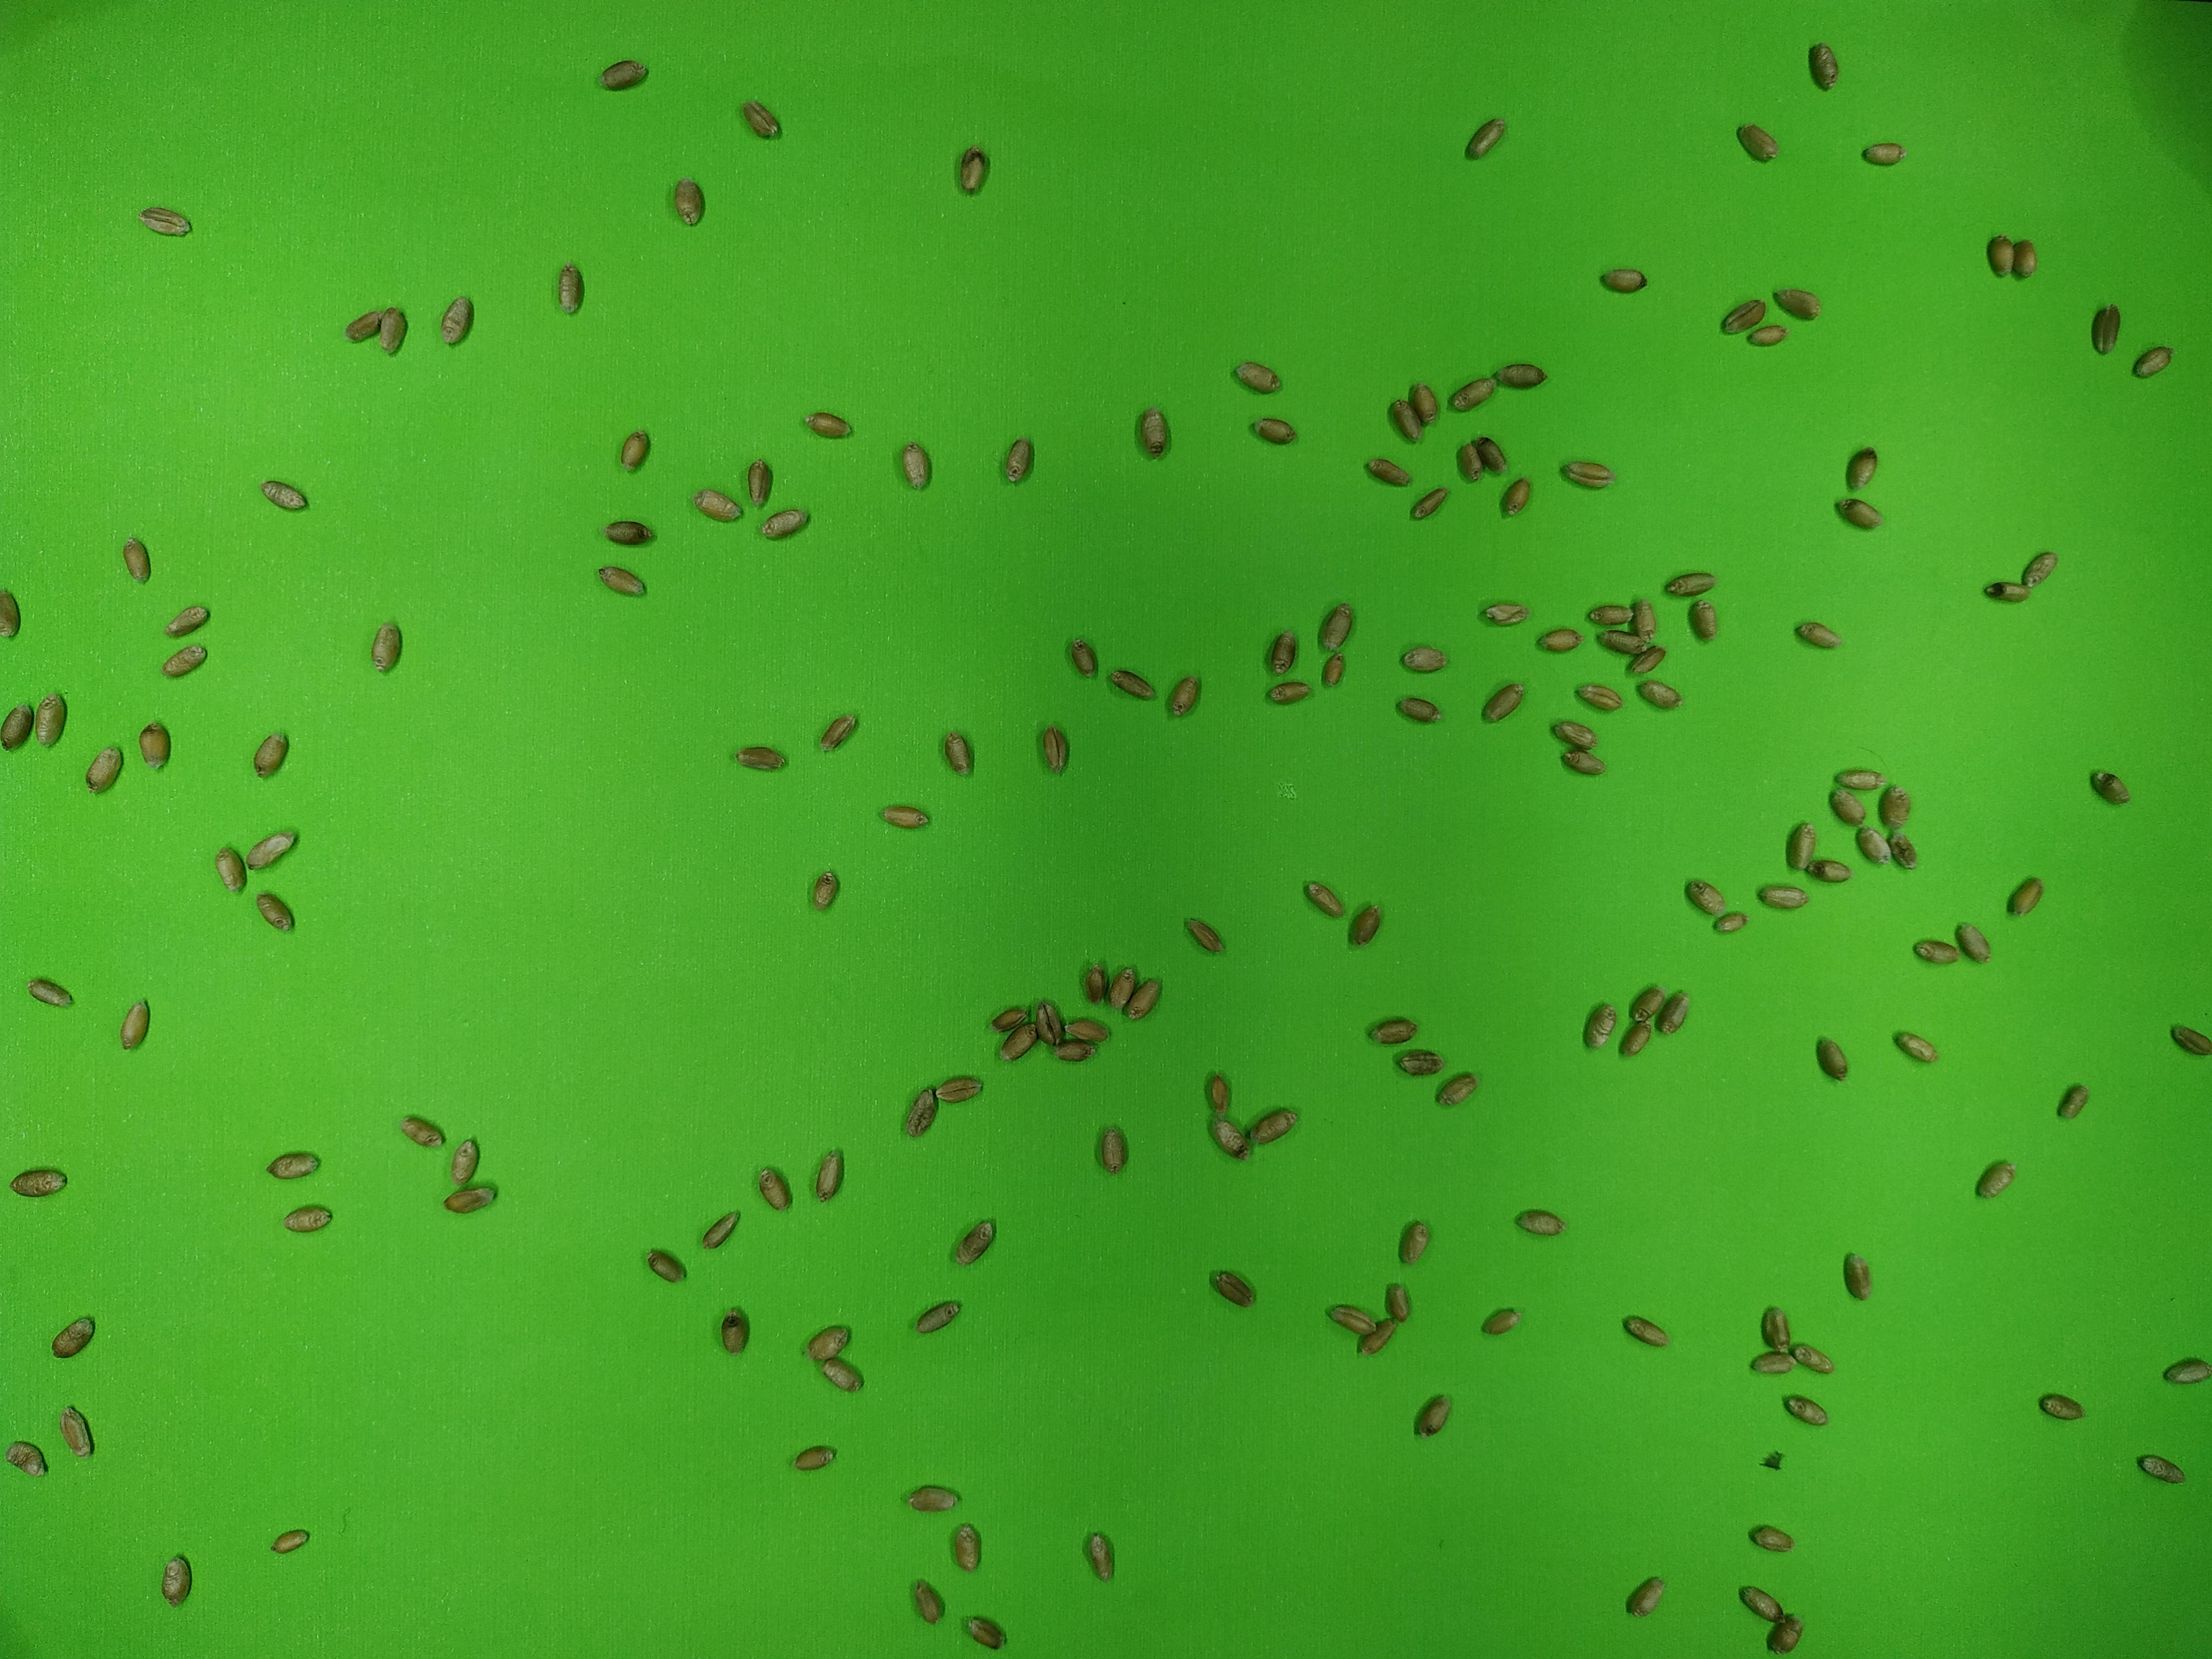bueno: (244, 826, 305, 875), (2085, 762, 2135, 814), (47, 1310, 99, 1358), (33, 685, 68, 753), (1318, 1300, 1378, 1338), (85, 744, 125, 800), (1782, 823, 1822, 875), (437, 295, 475, 349), (57, 1403, 94, 1459), (1393, 1218, 1433, 1269), (1136, 404, 1170, 462), (956, 143, 993, 197), (805, 1323, 852, 1364), (1578, 1004, 1620, 1051), (1388, 394, 1426, 444), (1125, 974, 1163, 1025), (1834, 493, 1885, 532), (1514, 1204, 1566, 1241), (897, 441, 934, 493), (1209, 1270, 1261, 1307), (1096, 1121, 1129, 1178), (1763, 1610, 1804, 1656), (954, 1218, 995, 1265), (448, 1134, 482, 1188), (1756, 1303, 1791, 1358), (118, 997, 153, 1051), (260, 476, 308, 514), (1075, 958, 1111, 1009), (907, 1577, 944, 1628), (718, 1305, 754, 1356), (369, 619, 402, 674), (552, 261, 585, 317), (1496, 471, 1531, 523), (1413, 1396, 1454, 1439), (932, 1073, 984, 1108), (2005, 873, 2047, 917), (0, 701, 35, 753), (212, 842, 247, 894), (1480, 681, 1524, 723), (1555, 744, 1608, 779), (693, 483, 738, 523), (1683, 878, 1728, 918), (1406, 380, 1444, 427), (742, 96, 780, 143), (253, 730, 291, 777), (1972, 1162, 2019, 1201), (2090, 300, 2123, 354), (160, 1551, 193, 1605), (1003, 432, 1036, 486), (1322, 601, 1355, 655), (669, 178, 705, 227), (1264, 627, 1301, 676), (1231, 359, 1280, 396), (1986, 230, 2022, 279), (1803, 40, 1839, 89), (138, 720, 172, 770), (1247, 411, 1298, 446), (761, 505, 812, 540), (1467, 436, 1508, 477), (1465, 117, 1507, 159), (1038, 720, 1069, 775), (744, 453, 775, 509), (120, 532, 152, 587), (1811, 1039, 1851, 1082), (2052, 1080, 2092, 1124), (1825, 786, 1869, 826), (1163, 674, 1202, 720), (1719, 300, 1771, 333), (1792, 620, 1844, 653), (1839, 1251, 1872, 1303), (1360, 457, 1413, 490), (376, 303, 409, 356), (812, 1150, 845, 1202), (1350, 899, 1383, 951), (803, 408, 855, 441), (399, 1112, 446, 1148), (1062, 634, 1099, 681), (1399, 641, 1446, 678), (900, 1483, 958, 1513), (596, 61, 653, 91), (1620, 1314, 1669, 1349), (2034, 1389, 2083, 1424), (1449, 376, 1498, 411), (10, 1168, 64, 1199), (1085, 1528, 1116, 1582), (758, 1159, 789, 1213), (1629, 988, 1669, 1030), (1952, 922, 1994, 962), (1625, 1575, 1667, 1615), (1207, 1115, 1249, 1155), (266, 1148, 317, 1182), (1381, 1279, 1414, 1330), (906, 1087, 939, 1138), (878, 800, 928, 833), (343, 308, 387, 347), (1735, 122, 1778, 160), (615, 429, 651, 474), (913, 1300, 958, 1337), (1435, 1070, 1480, 1107), (961, 1614, 1007, 1650), (1202, 1068, 1231, 1124), (1660, 570, 1712, 601), (2160, 1356, 2212, 1387), (1109, 667, 1157, 702), (941, 727, 972, 779), (1892, 1030, 1939, 1065), (1301, 882, 1348, 917), (1494, 361, 1547, 392), (1747, 1523, 1796, 1556), (1184, 913, 1224, 953), (817, 713, 857, 753), (1615, 1019, 1656, 1058), (1803, 857, 1857, 887), (1559, 458, 1613, 488), (1879, 833, 1923, 870), (1397, 692, 1440, 728), (2168, 1023, 2212, 1060), (139, 206, 190, 237), (1756, 882, 1806, 913), (444, 1183, 495, 1215), (21, 976, 71, 1007), (951, 1523, 982, 1574), (1855, 823, 1890, 868), (3, 1439, 49, 1474), (819, 1356, 864, 1391), (789, 1443, 836, 1476), (810, 868, 843, 915), (1844, 444, 1878, 491), (1743, 319, 1791, 352), (1635, 678, 1683, 711), (282, 1201, 329, 1234), (1109, 958, 1139, 1011), (733, 742, 786, 772), (1622, 599, 1660, 640), (2019, 551, 2059, 589), (1740, 1582, 1780, 1621), (254, 892, 294, 931), (1773, 288, 1822, 319), (1357, 1316, 1392, 1359), (1454, 437, 1489, 481), (643, 1249, 686, 1284), (1249, 1108, 1292, 1143), (1031, 997, 1064, 1042), (2135, 1450, 2181, 1483), (266, 1525, 312, 1558), (160, 645, 206, 678), (1911, 936, 1961, 965), (1982, 575, 2029, 606), (1536, 626, 1583, 657), (1752, 1345, 1799, 1377), (1369, 1016, 1416, 1047), (1397, 1047, 1444, 1079), (1601, 265, 1648, 296), (986, 1002, 1033, 1033), (1000, 1023, 1038, 1061), (1268, 676, 1310, 711), (2132, 343, 2174, 378), (1049, 1037, 1097, 1066), (1595, 627, 1644, 657), (1834, 765, 1883, 795), (1858, 139, 1907, 169), (1881, 784, 1911, 833), (1550, 716, 1594, 749), (1791, 1342, 1834, 1375), (1576, 681, 1622, 713), (1627, 640, 1665, 676), (702, 1213, 738, 1251), (1656, 992, 1691, 1032), (1587, 598, 1634, 627), (1688, 598, 1717, 645), (597, 565, 644, 594), (1784, 1396, 1831, 1425), (2010, 237, 2041, 281), (1475, 599, 1527, 626), (0, 589, 28, 638), (1411, 486, 1447, 523), (167, 605, 209, 636), (601, 521, 650, 547), (1480, 1307, 1519, 1340), (1064, 1016, 1109, 1044), (1318, 652, 1345, 692), (1714, 910, 1752, 932)
impureza: (1754, 1445, 1791, 1474)
